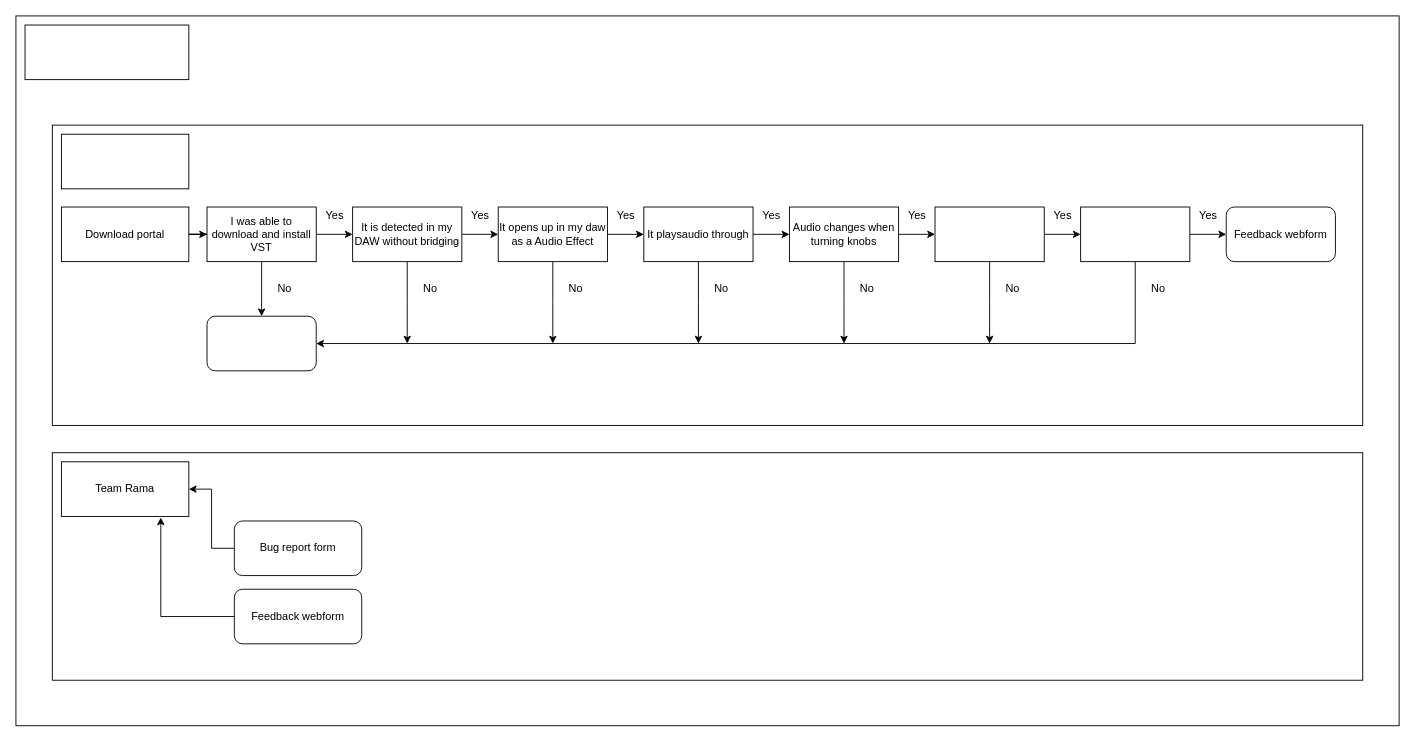
This 1415x742 diagram has some shape labels left out. Here are the shapes that lost their labels. From the top down, the centre of each, then its label:
point 106,52: User Testing Flowchart
point 125,161: User
point 989,234: Plugin closes properly
point 1135,234: Plugin saves values when project is closed
point 261,343: Report with bug report form
